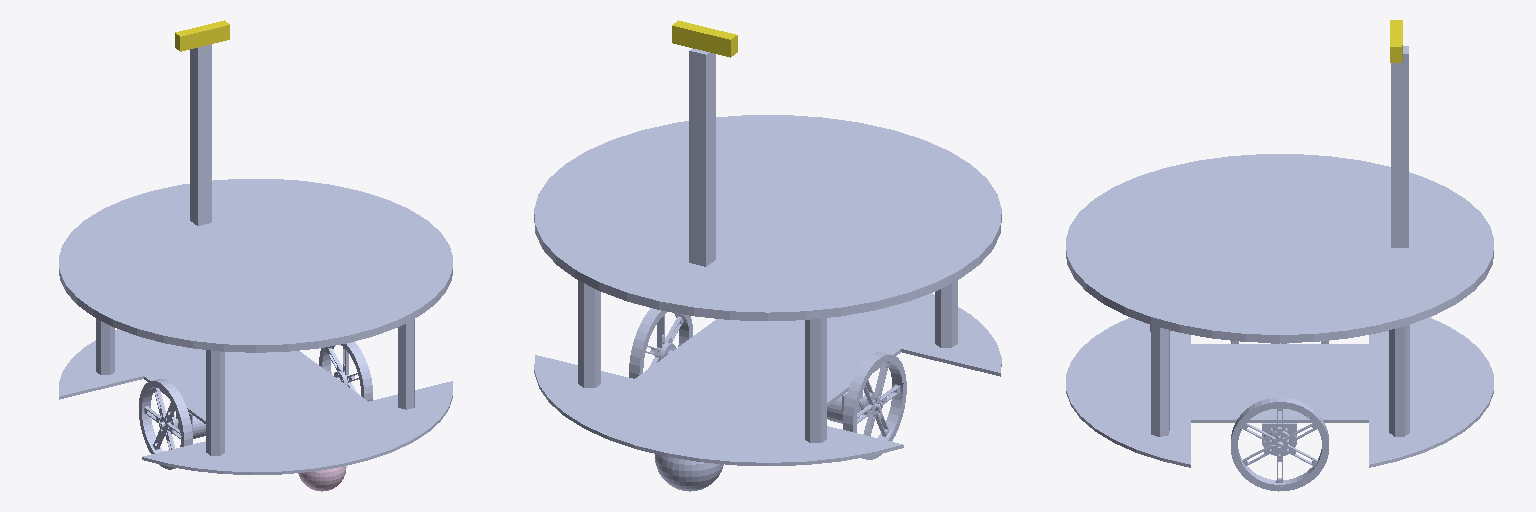
URDF robot description (mapping_robot_1):
<?xml version="1.0" encoding="utf-8"?>
<!-- This URDF was automatically created by SolidWorks to URDF Exporter! Originally created by [author] ([email redacted]) 
     Commit Version: 1.6.0-1-g15f4949  Build Version: 1.6.7594.29634
     For more information, please see http://wiki.ros.org/sw_urdf_exporter -->
<robot
  name="mapping_robot_1">
  <link
    name="base_link">
    <inertial>
      <origin xyz="0 0 0.03" rpy="0 0 0" />
      <mass value="0.36019" />
      <inertia
        ixx="0.0010507"
        ixy="7.6565E-12"
        ixz="4.6942E-11"
        iyy="0.0018673"
        iyz="0.3788E-10"
        izz="0.00107787" />
    </inertial>
    <visual>
      <origin xyz="0 0 0" rpy="0 0 0" />
      <geometry>
        <mesh filename="package://mapping_robot_1/meshes/base_link.STL" />
      </geometry>
      <material
        name="">
        <color rgba="0.79216 0.81961 0.93333 1" />
      </material>
    </visual>
    <collision>
      <origin xyz="0 0 0" rpy="0 0 0" />
      <geometry>
        <mesh filename="package://mapping_robot_1/meshes/base_link.STL" />
      </geometry>
    </collision>
  </link>

  <gazebo reference="base_link">
    <material>Gazebo/DarkGrey</material>
  </gazebo>

  <joint name="caster_joint" type="fixed">
    <origin xyz="0 0.08 -0.02" rpy="0 0 0"/>
    <parent link="base_link"/>
    <child link="caster_front"/>
  </joint>

  <gazebo reference="caster_front">
            <slip1>100000.0</slip1>
            <slip2>100000.0</slip2>
  </gazebo>

 <link name="caster_front">
    <collision name="caster_front_collision">
      <origin rpy="0  0  0" xyz="0 0 0"/>
      <geometry>
        <sphere radius="0.018"/>
      </geometry>
      <surface>
        <friction>
          <ode>
            <slip1>100000.0</slip1>
            <slip2>100000.0</slip2>
          </ode>
        </friction>
      </surface>
    </collision>
    
    <visual name="castor_front_visual">
      <origin rpy="0  0  0" xyz="0 0 0"/>
      <geometry>
        <sphere radius="0.018"/>
      </geometry>
      <material
        name="">
        <color rgba="0.79216 0.81961 0.93333 1" />
      </material>
    </visual>
  </link>

 <gazebo reference="caster_front">
    <material>Gazebo/BlueGlow</material>
  </gazebo>

  <joint name="caster_joint1" type="fixed">
    <origin xyz="0 -0.08 -0.02" rpy="0 0 0"/>
    <parent link="base_link"/>
    <child link="caster_front1"/>
  </joint>

    <gazebo reference="caster_front1">
            <slip1>100000.0</slip1>
            <slip2>100000.0</slip2>
  </gazebo>
 <link name="caster_front1">
    <collision name="caster_front_collision1">
      <origin rpy="0  0  0" xyz="0 0 0"/>
      <geometry>
        <sphere radius="0.015"/>
      </geometry>
      <surface>
        <friction>
          <ode>
            <slip1>100000.0</slip1>
            <slip2>100000.0</slip2>
          </ode>
        </friction>
      </surface>
    </collision>
    
    <visual name="castor_front_visual1">
      <origin rpy="0  0  0" xyz="0 0 0"/>
      <geometry>
        <sphere radius="0.015"/>
      </geometry>
      <material
        name="1">
        <color rgba="0.9216 0.81961 0.93333 1" />
      </material>
    </visual> 
    </link>

  <gazebo reference="caster_front1">
    <material>Gazebo/BlueGlow</material>
  </gazebo>

  <joint name="stereo_joint" type="fixed">
    <origin xyz="0.0 0.065 0.21" rpy="0 0 1.57"/>
    <parent link="base_link"/>
    <child link="stereo_link"/>
  </joint>

  <link name="stereo_link">
    <collision>
      <origin xyz="0.0 0.0 0.0" rpy="0 0 0"/>
      <geometry>
        <box size="0.007 0.035 0.01"/>
      </geometry>
    </collision>
    <visual name="stereo_front_visual">
      <origin rpy="0  0  0" xyz="0  0  0"/>
      <geometry>
        <box size="0.007 0.035 0.01"/>
      </geometry>
    </visual> 
  </link>
  
  <link
    name="Left_link">
    <inertial>
      <origin xyz="0.07 0.0 -0.009" rpy="0 0 0" />
      <mass value="0.0047382" />
      <inertia
        ixx="2.7571E-06"
        ixy="-6.1198E-12"
        ixz="1.7319E-14"
        iyy="1.3915E-06"
        iyz="-3.1568E-13"
        izz="1.3915E-06" />
    </inertial>
    <visual>
      <origin xyz="-0.135 0 0" rpy="0 0 0" />
      <geometry>
        <mesh filename="package://mapping_robot_1/meshes/Left_link.STL" />
      </geometry>
      <material
        name="">
        <color rgba="0.79216 0.81961 0.93333 1" />
      </material>
    </visual>
    <collision>
      <origin xyz="-0.135 0 0" rpy="0 0 0" />
      <geometry>
        <mesh filename="package://mapping_robot_1/meshes/Left_link.STL" />
      </geometry>
      <surface>
      <friction>
          <ode>
            <mu>1000</mu>
            <mu2>1000</mu2>
          </ode>
        </friction>
      </surface>
    </collision>
  </link>
  <joint name="left_wheel" type="continuous">
    <origin xyz="0.07 0.0 -0.009" rpy="0 0 0" />
    <parent link="base_link" />
    <child link="Left_link" />
    <axis xyz="-1 0 0" />
    <limit effort="20" velocity="10" /> 
    <joint_properties damping="10.0" friction="10000.0" />
  </joint>

  <gazebo reference="Left_link">
            <mu>1000</mu>
            <mu2>1000</mu2>
  </gazebo>
  <transmission name="left_wheel_trans">
    <type>transmission_interface/SimpleTransmission</type>
    <actuator name="left_wheel_motor">
      <hardwareInterface>VelocityJointInterface</hardwareInterface>
      <mechanicalReduction>4</mechanicalReduction>
    </actuator>
    <joint name="left_wheel">
      <hardwareInterface>VelocityJointInterface</hardwareInterface>
    </joint>
  </transmission>

  <gazebo reference="Left_link">
    <material>Gazebo/BlueGlow</material>
  </gazebo>

  <link name="Right_Link">
    <inertial>
      <origin xyz="-0.07 0.0 -0.009" rpy="0 0 0" />
      <mass value="0.0047382" />
      <inertia
        ixx="2.7571E-06"
        ixy="-6.1198E-12"
        ixz="1.7319E-14"
        iyy="1.3915E-06"
        iyz="-3.1568E-13"
        izz="1.3915E-06" />
    </inertial>
    <visual>
      <origin xyz="0.135 0 0" rpy="0 0 0" />
      <geometry>
        <mesh filename="package://mapping_robot_1/meshes/Right_Link.STL" />
      </geometry>
      <material
        name="">
        <color rgba="0.79216 0.81961 0.93333 1" />
      </material>
    </visual>
    <collision>
      <origin xyz="0.135 0.0 0.0" rpy="0 0 0" />
      <geometry>
        <mesh filename="package://mapping_robot_1/meshes/Right_Link.STL" />
      </geometry>
      <surface>
      <friction>
          <ode>
            <mu>100</mu>
            <mu2>100</mu2>
          </ode>
        </friction>
      </surface>
    </collision>
  </link>
  <joint name="Right_wheel" type="continuous">
    <origin xyz="-0.07 0.0 -0.009" rpy="0 0 0" />
    <parent link="base_link" />
    <child link="Right_Link" />
    <axis xyz="-1 0 0" />
    <limit effort="20" velocity="10" /> 
    <joint_properties damping="10.0" friction="10000.0" />
  </joint>

  
  <gazebo reference="Right_Link">
            <mu>1000</mu>
            <mu2>1000</mu2>
  </gazebo>
  <transmission name="right_wheel_trans">
     <type>transmission_interface/SimpleTransmission</type>
     <actuator name="right_wheel_motor">
       <hardwareInterface>VelocityJointInterface</hardwareInterface>
       <mechanicalReduction>4</mechanicalReduction>
     </actuator>
     <joint name="Right_wheel">
       <hardwareInterface>VelocityJointInterface</hardwareInterface>
     </joint>
  </transmission>

  <gazebo reference="Right_Link">
    <material>Gazebo/BlueGlow</material>
  </gazebo>

  <gazebo>
    <plugin filename="libgazebo_ros_diff_drive.so" name="differential_drive_controller">
      <alwaysOn>true</alwaysOn>
      <updateRate>20</updateRate>
      <leftJoint>left_wheel</leftJoint>
      <rightJoint>Right_wheel</rightJoint>
      <wheelSeparation>0.2</wheelSeparation>
      <wheelDiameter>0.1</wheelDiameter>
      <torque>10</torque>
      <commandTopic>cmd_vel</commandTopic>
      <odometryTopic>odom</odometryTopic>
      <odometryFrame>odom</odometryFrame>
      <robotBaseFrame>base_link</robotBaseFrame>
    </plugin>
  </gazebo>
<!-- First camera joint -->
  <joint name="camera_joint" type="fixed">
    <origin xyz="0.0165 0.065 0.21" rpy="0 0 1.57"/>
    <parent link="base_link"/>
    <child link="camera_link"/>
  </joint>

  <link name="camera_link">
    <collision>
      <origin xyz="0.001325 0.002915 0.003445" rpy="0 0 0"/>
      <geometry>
        <box size="0.003975 0.00795 0.007155"/>
      </geometry>
    </collision>
  </link>

  <joint name="camera_rgb_joint" type="fixed">
    <origin xyz="0.000795 0.002915 0.002385" rpy="0 0 0"/>
    <parent link="camera_link"/>
    <child link="camera_rgb_frame"/>
  </joint>
  <link name="camera_rgb_frame"/>

  <joint name="camera_rgb_optical_joint" type="fixed">
    <origin xyz="0 0 0" rpy="-1.57 0 -1.57"/>
    <parent link="camera_rgb_frame"/>
    <child link="camera_rgb_optical_frame"/>
  </joint>
  <link name="camera_rgb_optical_frame"/>

    <gazebo reference="camera_rgb_frame">
    <sensor type="camera" name="Pi Camera">
      <always_on>true</always_on>
      <visualize>true</visualize>
      <camera>
          <horizontal_fov>1.085595</horizontal_fov>
          <image>
              <width>640</width>
              <height>480</height>
              <format>R8G8B8</format>
          </image>
          <clip>
              <near>0.03</near>
              <far>100</far>
          </clip>
      </camera>
      <plugin name="camera_controller" filename="libgazebo_ros_camera.so">
        <alwaysOn>true</alwaysOn>
        <updateRate>30.0</updateRate>
        <cameraName>camera</cameraName>
        <frameName>camera_rgb_optical_frame</frameName>
        <imageTopicName>rgb/image_raw</imageTopicName>
        <cameraInfoTopicName>rgb/camera_info</cameraInfoTopicName>
        <hackBaseline>0.07</hackBaseline>
        <distortionK1>0.0</distortionK1>
        <distortionK2>0.0</distortionK2>
        <distortionK3>0.0</distortionK3>
        <distortionT1>0.0</distortionT1>
        <distortionT2>0.0</distortionT2>
      </plugin>
    </sensor>
  </gazebo>
<!-- The second Camera joint -->
  <joint name="camera_joint1" type="fixed">
    <origin xyz="-0.0135 0.065 0.21" rpy="0 0 1.57"/>
    <parent link="base_link"/>
    <child link="camera_link1"/>
  </joint>

  <link name="camera_link1">
    <collision>
      <origin xyz="0.001325 0.002915 0.003445" rpy="0 0 0"/>
      <geometry>
        <box size="0.003975 0.00795 0.007155"/>
      </geometry>
    </collision>
  </link>

  <joint name="camera_rgb_joint1" type="fixed">
    <origin xyz="0.000795 0.002915 0.002385" rpy="0 0 0"/>
    <parent link="camera_link1"/>
    <child link="camera_rgb_frame1"/>
  </joint>
  <link name="camera_rgb_frame1"/>

  <joint name="camera_rgb_optical_joint1" type="fixed">
    <origin xyz="0 0 0" rpy="-1.57 0 -1.57"/>
    <parent link="camera_rgb_frame1"/>
    <child link="camera_rgb_optical_frame1"/>
  </joint>
  <link name="camera_rgb_optical_frame1"/>

    <gazebo reference="camera_rgb_frame1">
    <sensor type="camera" name="Pi Camera">
      <always_on>true</always_on>
      <visualize>true</visualize>
      <camera>
          <horizontal_fov>1.085595</horizontal_fov>
          <image>
              <width>640</width>
              <height>480</height>
              <format>R8G8B8</format>
          </image>
          <clip>
              <near>0.03</near>
              <far>100</far>
          </clip>
      </camera>
      <plugin name="camera_controller" filename="libgazebo_ros_camera.so">
        <alwaysOn>true</alwaysOn>
        <updateRate>30.0</updateRate>
        <cameraName>camera1</cameraName>
        <frameName>camera_rgb_optical_frame1</frameName>
        <imageTopicName>rgb/image_raw1</imageTopicName>
        <cameraInfoTopicName>rgb/camera_info1</cameraInfoTopicName>
        <hackBaseline>0.07</hackBaseline>
        <distortionK1>0.0</distortionK1>
        <distortionK2>0.0</distortionK2>
        <distortionK3>0.0</distortionK3>
        <distortionT1>0.0</distortionT1>
        <distortionT2>0.0</distortionT2>
      </plugin>
    </sensor>
  </gazebo>
</robot>

--- Facts derived from the render (not from the file) ---
Views: 3 orthographic renders of the robot side by side, from view 1: azimuth 30°, elevation 25°; view 2: azimuth 150°, elevation 25°; view 3: azimuth 270°, elevation 25°.
Model mapping_robot_1 with 12 links and 11 joints (2 continuous, 9 fixed), rooted at base_link, posed all joints at 0.
Links seen in each view (by area): view 1: base_link, Right_Link, Left_link, stereo_link, caster_front1; view 2: base_link, Right_Link, Left_link, caster_front, stereo_link; view 3: base_link, Left_link, stereo_link.
Boxes of the visible links, x1,y1,x2,y2 form: base_link: (59, 44, 452, 474); Right_Link: (139, 379, 192, 469); Left_link: (319, 342, 372, 401); stereo_link: (175, 20, 229, 51); caster_front1: (298, 466, 346, 491); base_link: (534, 48, 1001, 465); Right_Link: (843, 352, 906, 459); Left_link: (629, 308, 692, 378); caster_front: (655, 454, 723, 491); stereo_link: (672, 20, 737, 57); base_link: (1066, 46, 1493, 467); Left_link: (1231, 397, 1328, 491); stereo_link: (1390, 20, 1402, 62).
Size in the robot's own frame: 0.2396 by 0.2398 by 0.253 metres.
3 mesh visuals loaded from 3 distinct referenced files (3 binary STL).
